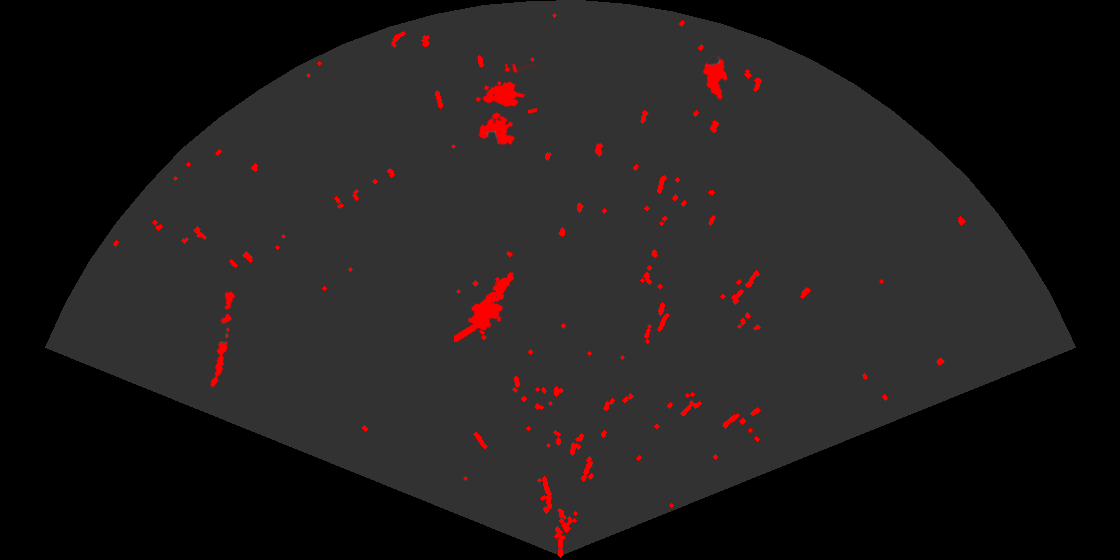AUV: (701, 55, 729, 101)
cage: (474, 64, 537, 146)
chain: (209, 289, 237, 389)
frogman: (454, 270, 516, 342)
